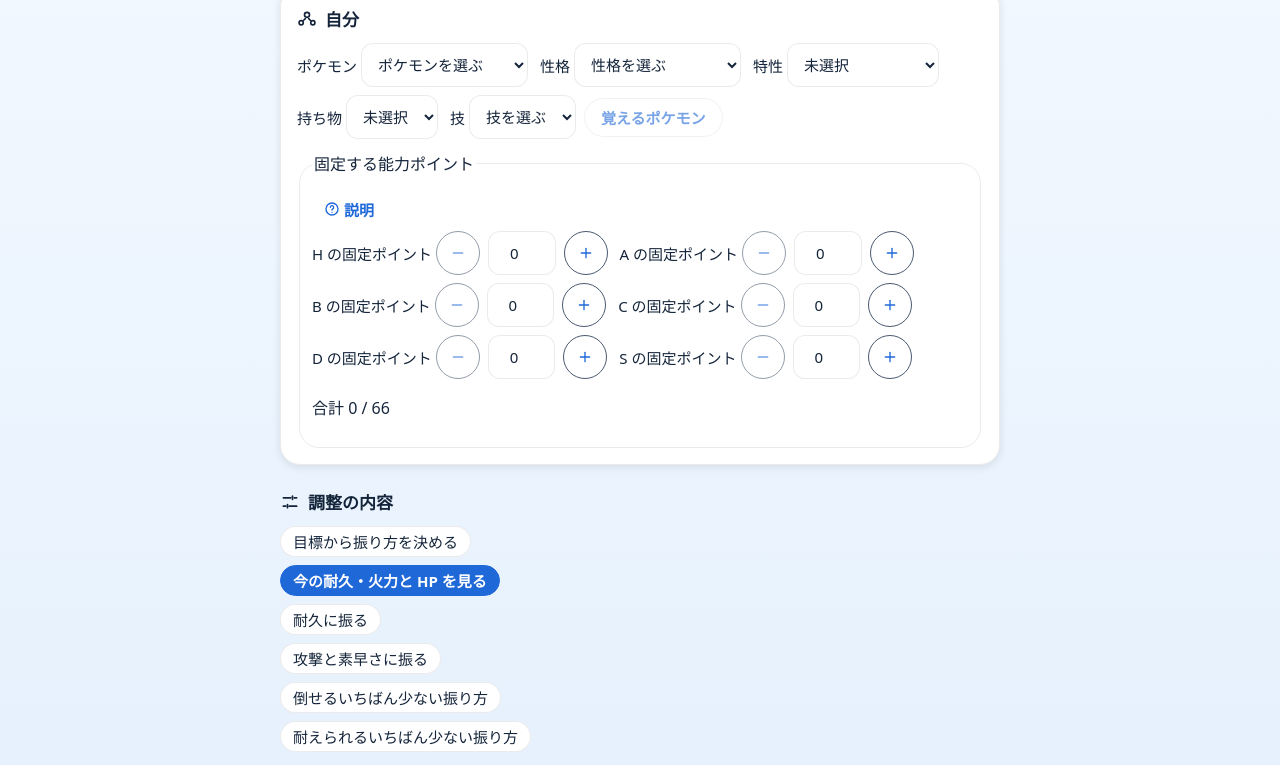
Test: G1 目標の追加・切り替え・外す › 追加すると「目標 1」のカードができ、種類の既定は「素早さを上回る」、フォーカスは種類へ
Select "テストカソウドリ" in the dropdown named "自分のポケモン". click: (444, 65)
box: [361,43,528,87]
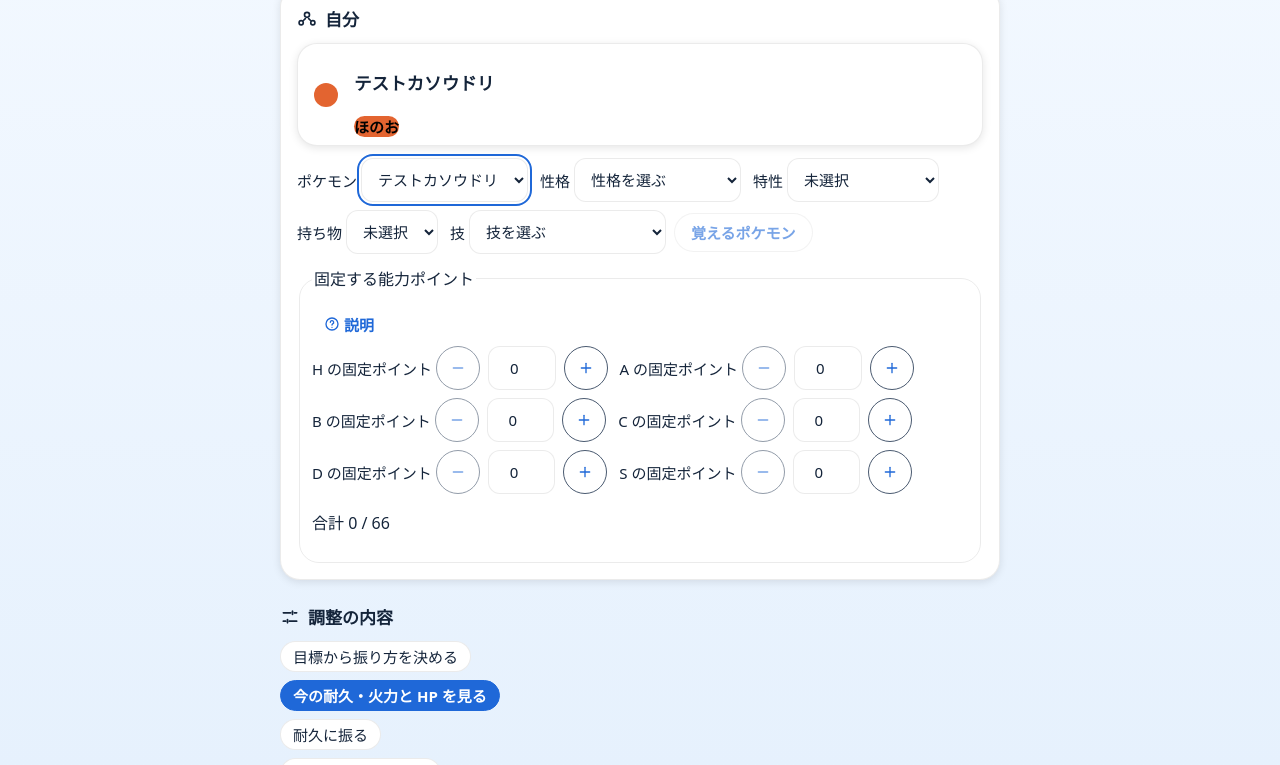
Select "テストまじめ" in the dropdown named "自分の性格". click: (658, 180)
box: [574,158,741,202]
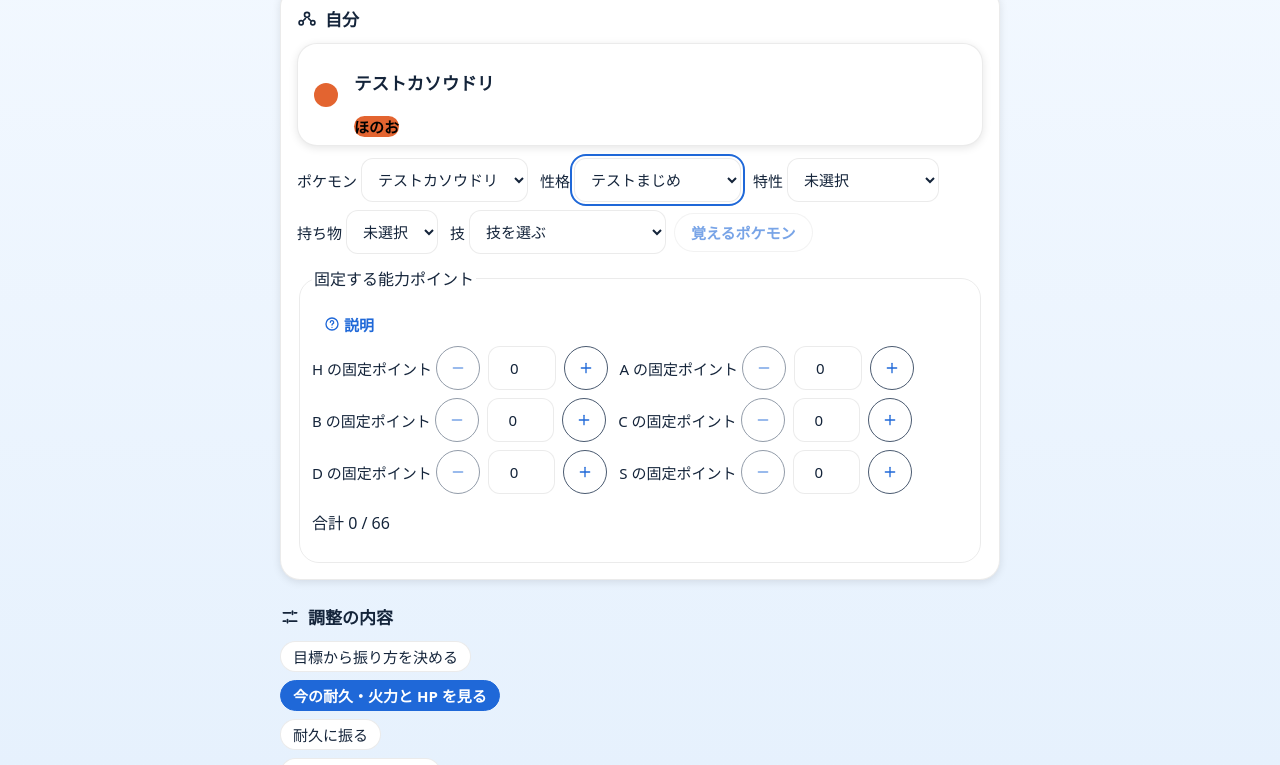
Click the radio button labelled "目標から振り方を決める". click: (376, 657)
box: [280,641,471,672]
(page scrolled)
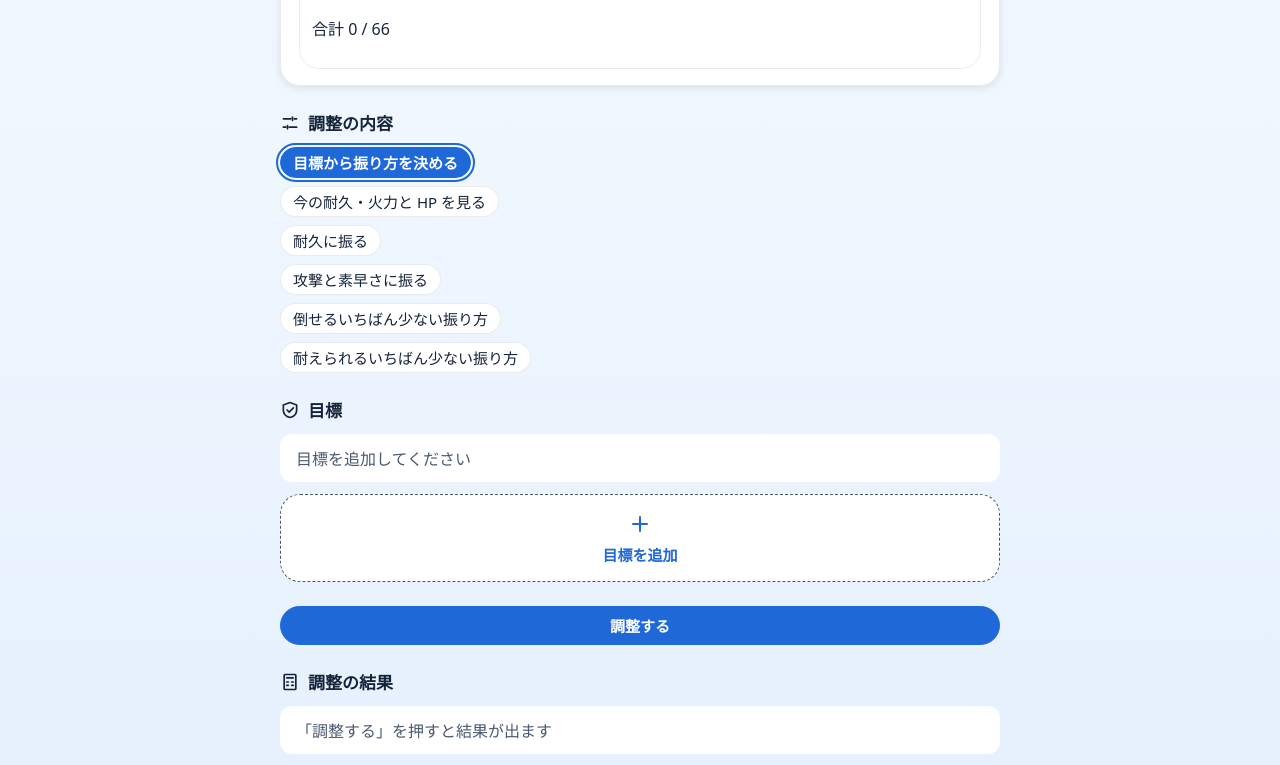
Click the button "目標を追加". click: (640, 538)
box: [280,494,1000,582]
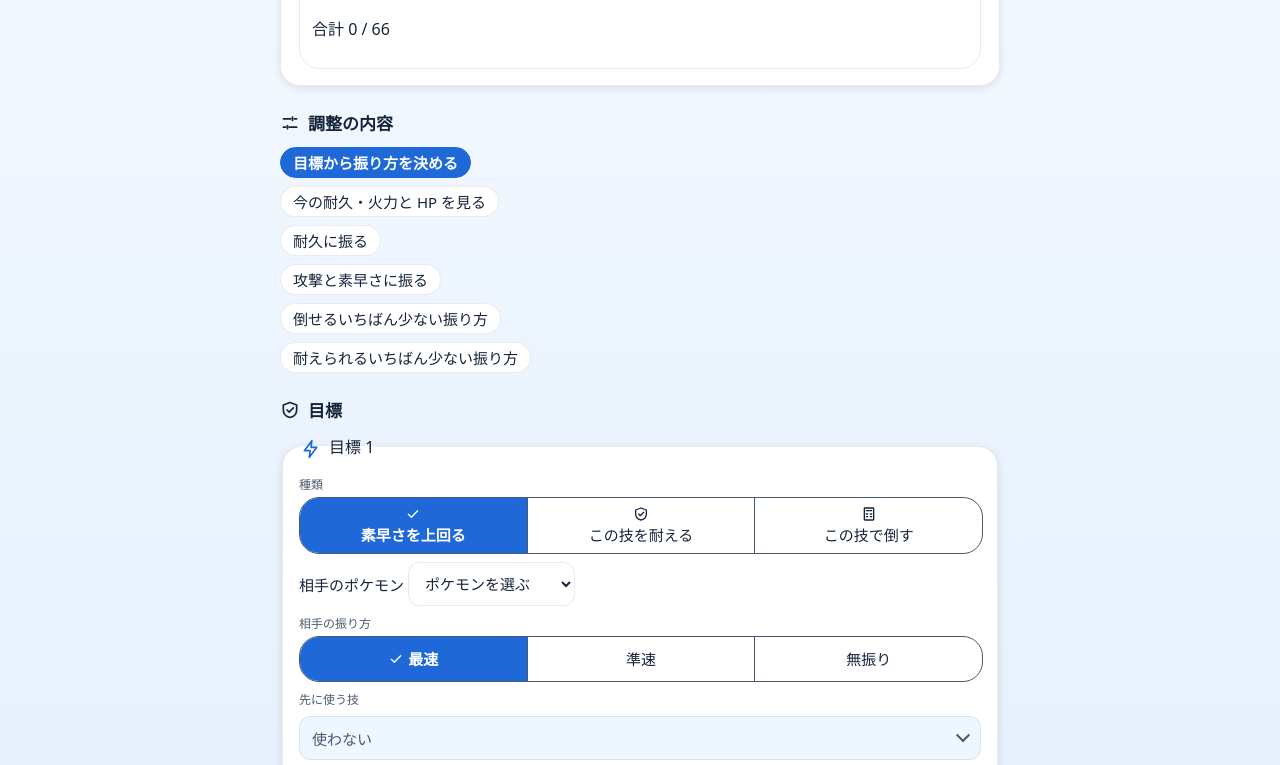
Result: the radio button labelled "素早さを上回る" is checked at [300,498,527,553]
Result: the text "目標を追加してください" is gone
